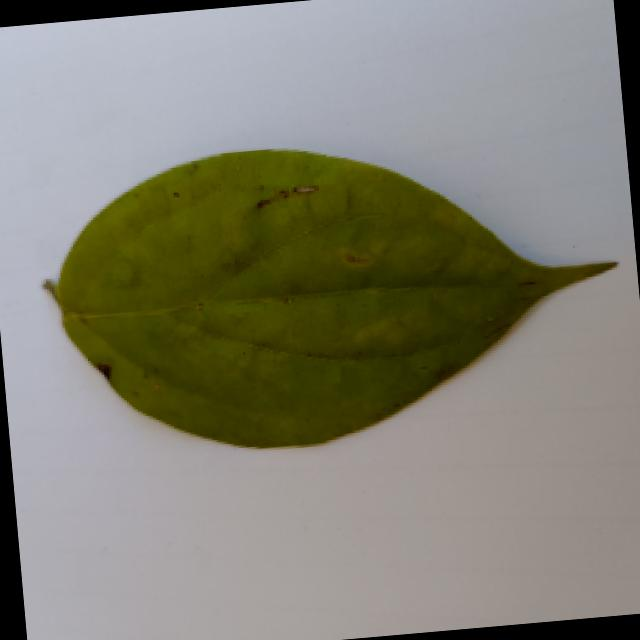slow-decline: (24, 122, 631, 479)
